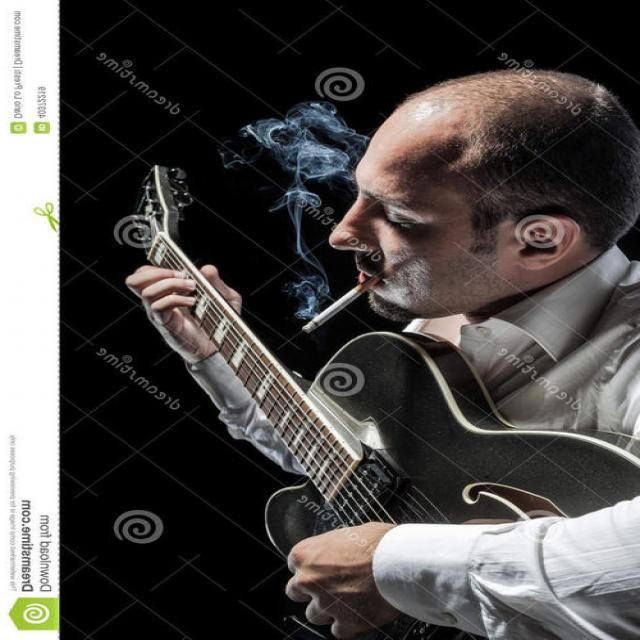smoking: (293, 272, 385, 336)
